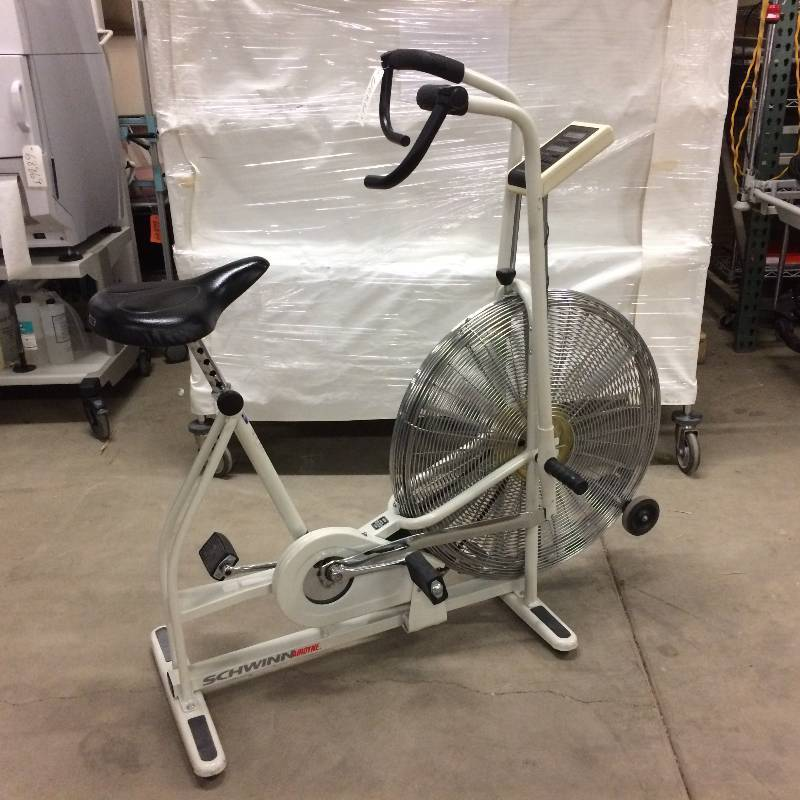gym_bike: (101, 45, 661, 780)
